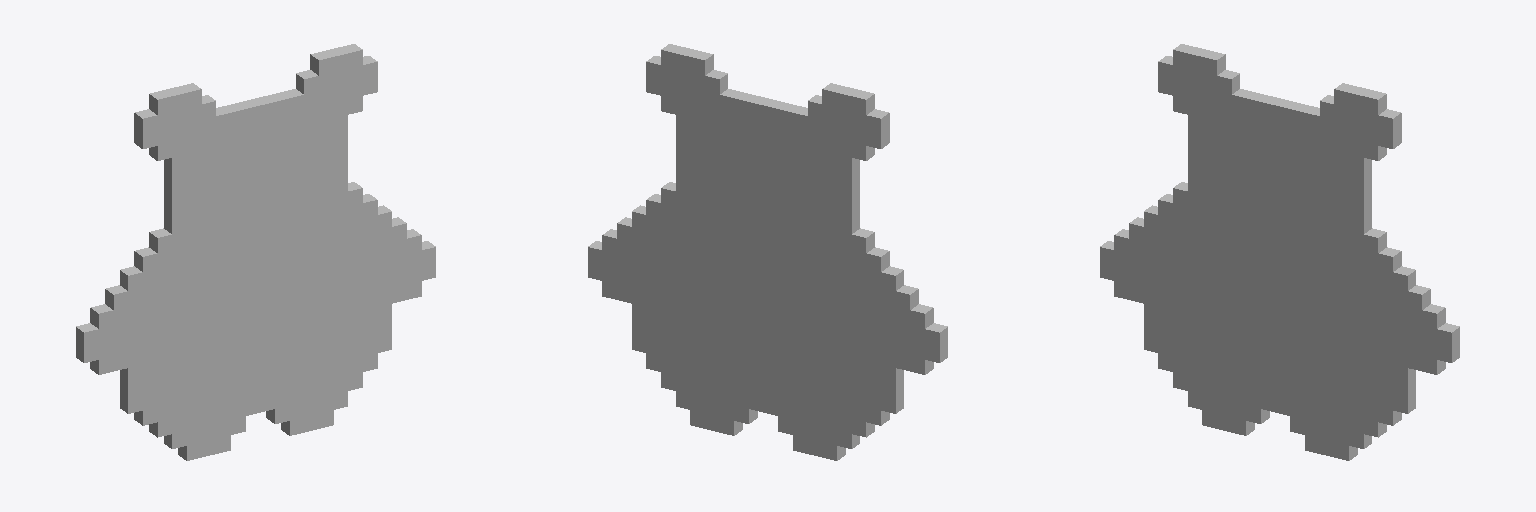
The model's file is миша шаг 2.obj.
3 renders of one model, left to right at view 1: azimuth 30°, elevation 25°; view 2: azimuth 150°, elevation 25°; view 3: azimuth 330°, elevation 25°, orthographic.
Parts seen in each view (by area): view 1: object 1; view 2: object 1; view 3: object 1.
Part boxes in pixels (x1,y1,x2,y2): object 1: (76,44,435,460); object 1: (588,44,947,460); object 1: (1100,44,1459,460).
Bounding box in the file's own units: 2.4 × 2.4 × 0.1.